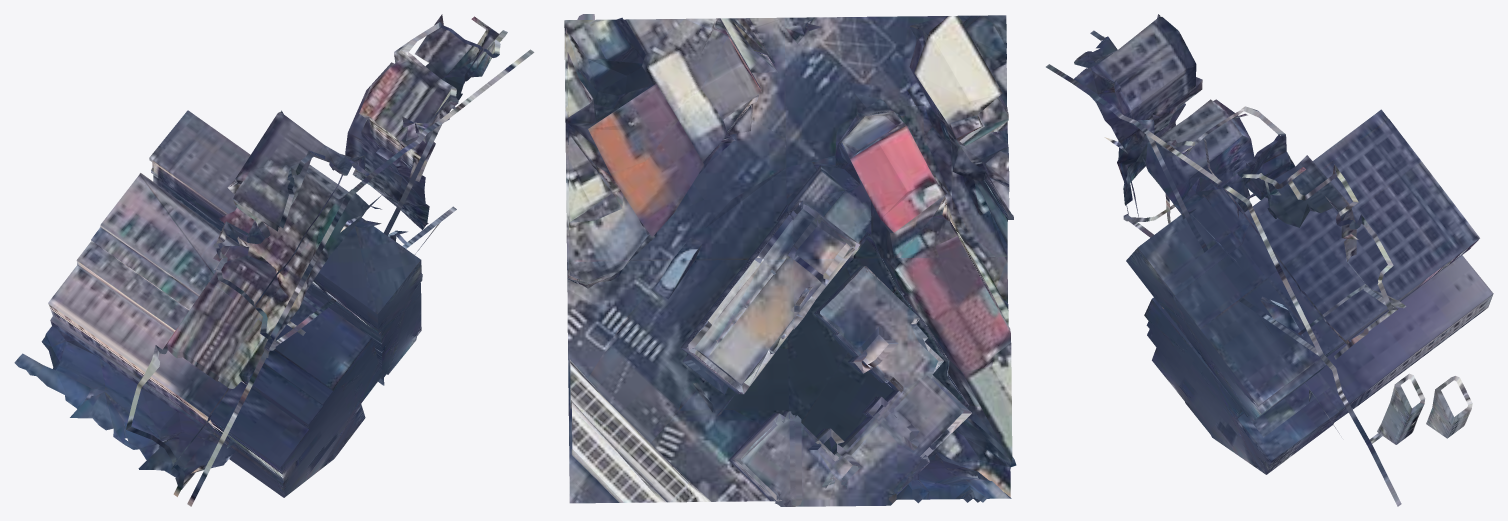
The picture shows the model from 3 angles, left to right: view 1: azimuth 30°, elevation 25°; view 2: azimuth 150°, elevation 25°; view 3: azimuth 270°, elevation 25°; orthographic projection. The views are drawn at different scales.
Bounding box in the file's own units: 92.32 × 82.16 × 81.55.
1 material, 1 textured.
